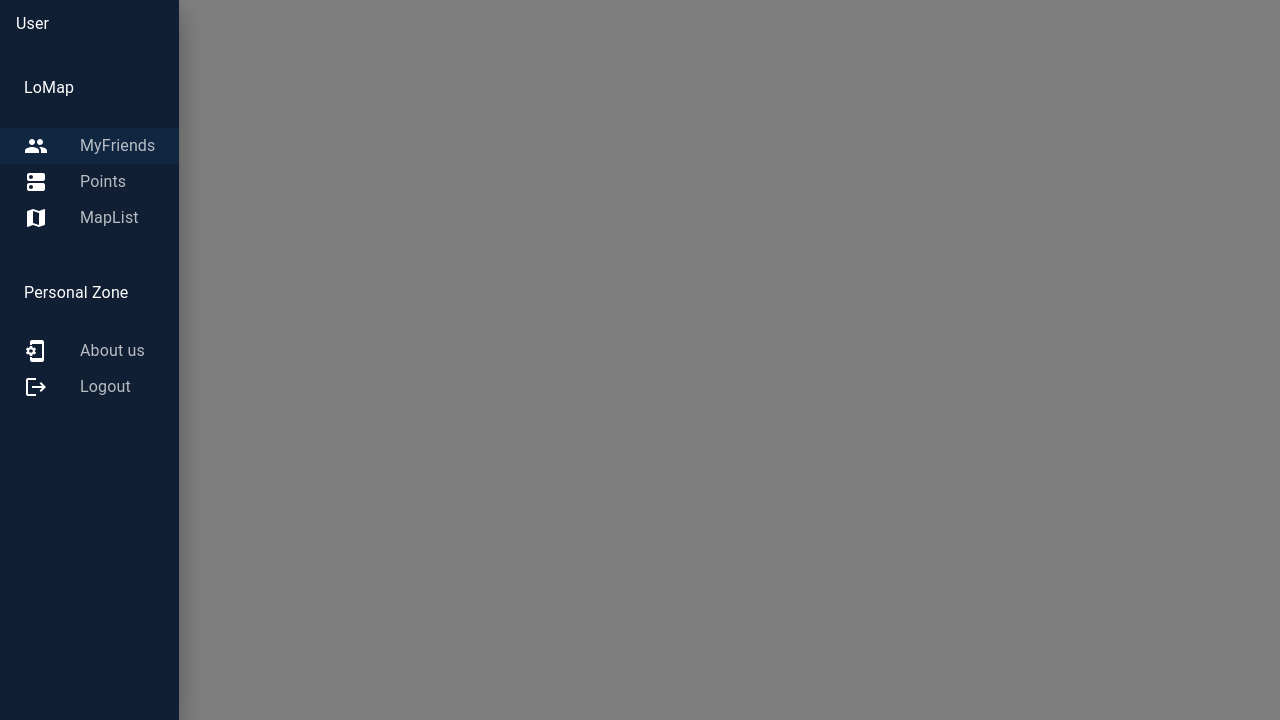
Test: check About Us button works where clicking on Navbar
Step 1. Click the button with test id "About us" → coordinates (84, 351), box [24,339,145,363]
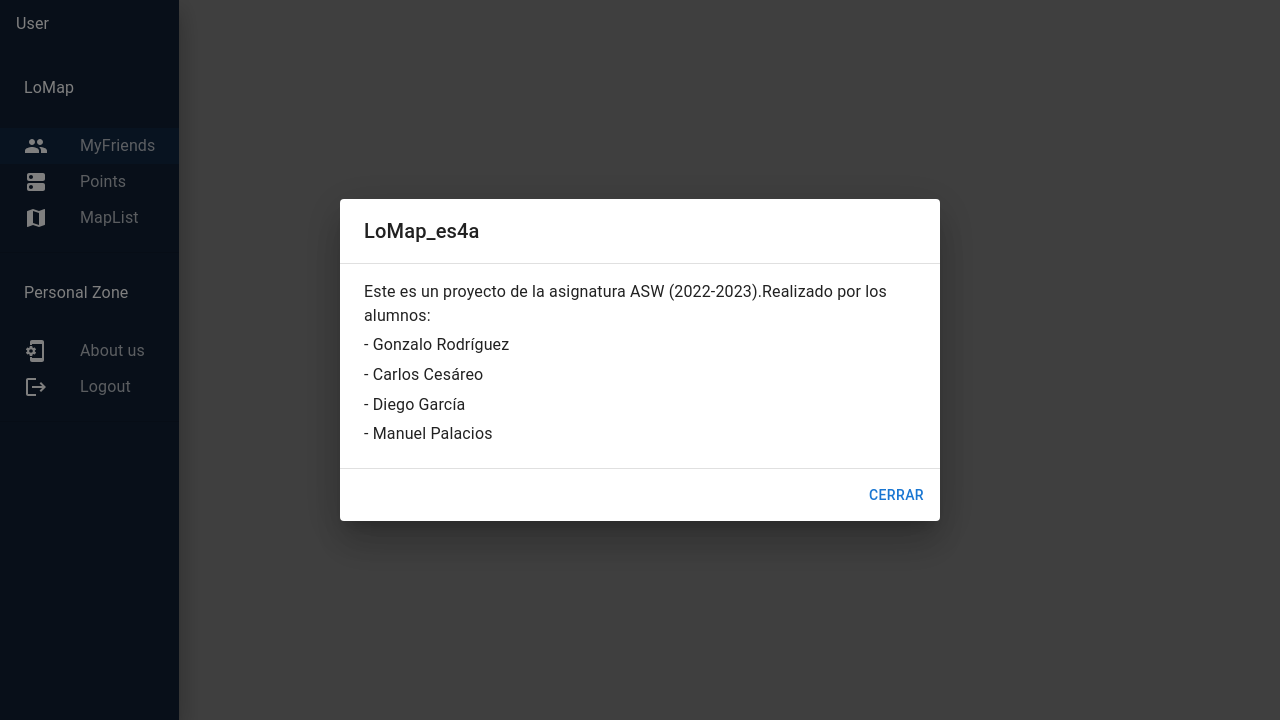
Expected: the element with test id "dialog" is shown
Expected: the text "Este es un proyecto de la asignatura ASW (2022-2023).Realizado por los alumnos:" is shown, [364,280,916,328]
